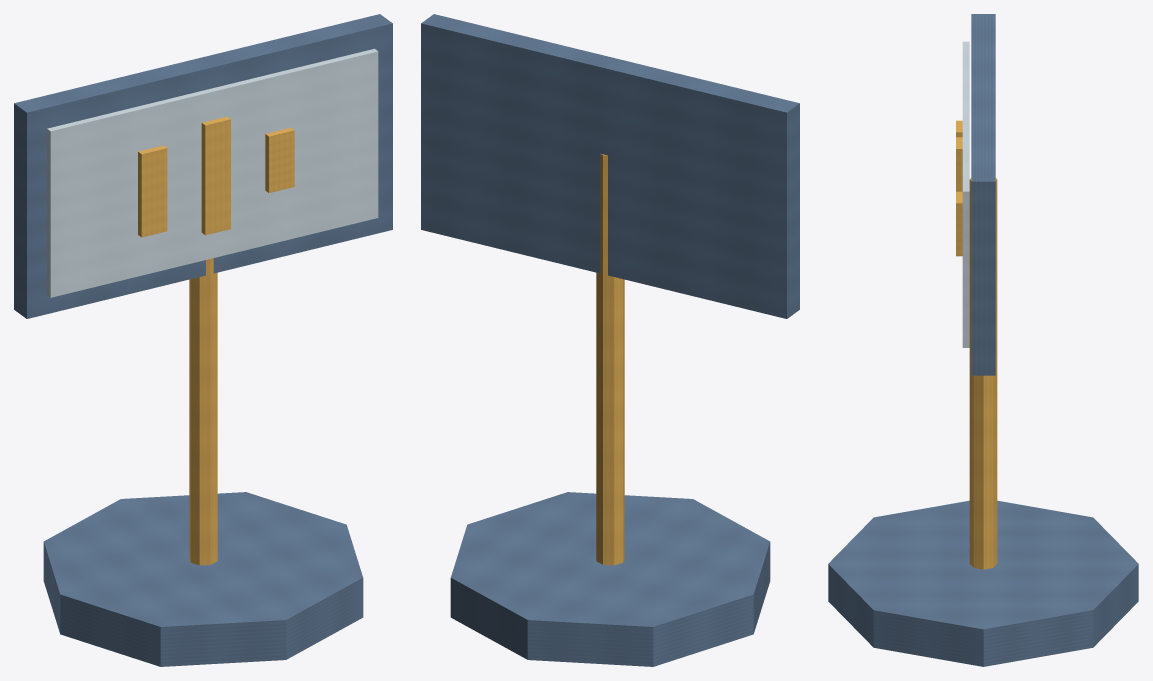
File: atlas100-s052-a11.glb
3 renders of one model, left to right at view 1: azimuth 30°, elevation 25°; view 2: azimuth 150°, elevation 25°; view 3: azimuth 270°, elevation 25°, orthographic. The views are drawn at different scales.
Parts seen in each view (by area): view 1: atlas100-s052-a11:part-003, atlas100-s052-a11:part-000, atlas100-s052-a11:part-002, atlas100-s052-a11:part-001, atlas100-s052-a11:part-005, atlas100-s052-a11:part-004, atlas100-s052-a11:part-006; view 2: atlas100-s052-a11:part-002, atlas100-s052-a11:part-000, atlas100-s052-a11:part-001; view 3: atlas100-s052-a11:part-000, atlas100-s052-a11:part-002, atlas100-s052-a11:part-001, atlas100-s052-a11:part-003, atlas100-s052-a11:part-006.
Boxes of the visible parts, x1,y1,x2,y2 form: atlas100-s052-a11:part-003: (47,48,378,297); atlas100-s052-a11:part-000: (43,492,363,666); atlas100-s052-a11:part-002: (14,14,392,318); atlas100-s052-a11:part-001: (189,258,217,565); atlas100-s052-a11:part-005: (201,116,230,235); atlas100-s052-a11:part-004: (138,145,167,237); atlas100-s052-a11:part-006: (265,127,294,192); atlas100-s052-a11:part-002: (421,14,799,318); atlas100-s052-a11:part-000: (450,492,770,666); atlas100-s052-a11:part-001: (596,154,624,565); atlas100-s052-a11:part-000: (828,500,1138,666); atlas100-s052-a11:part-002: (971,14,995,375); atlas100-s052-a11:part-001: (969,178,997,569); atlas100-s052-a11:part-003: (962,41,969,347); atlas100-s052-a11:part-006: (956,191,962,256).
Bounding box in the file's own units: 1.15 × 1.61 × 0.9.
Materials: 3 (3 with a texture image).
